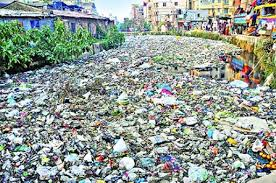garbage: (5, 76, 275, 183), (76, 55, 218, 183), (126, 35, 231, 183)
